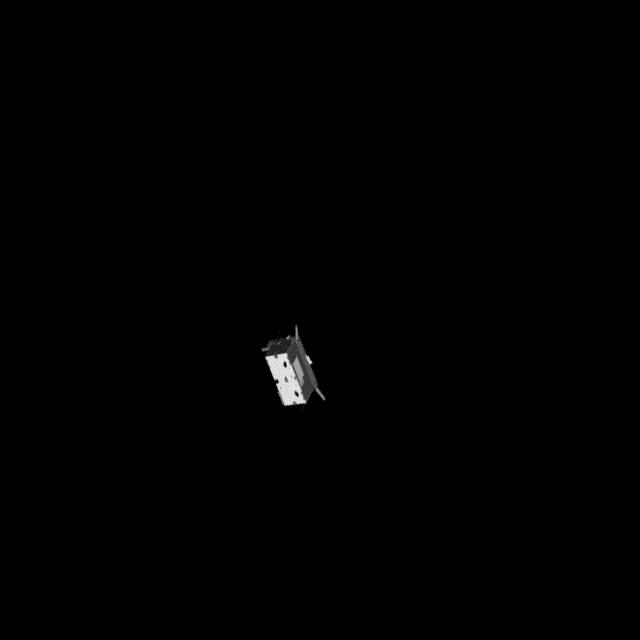satellite: (260, 324, 336, 420)
